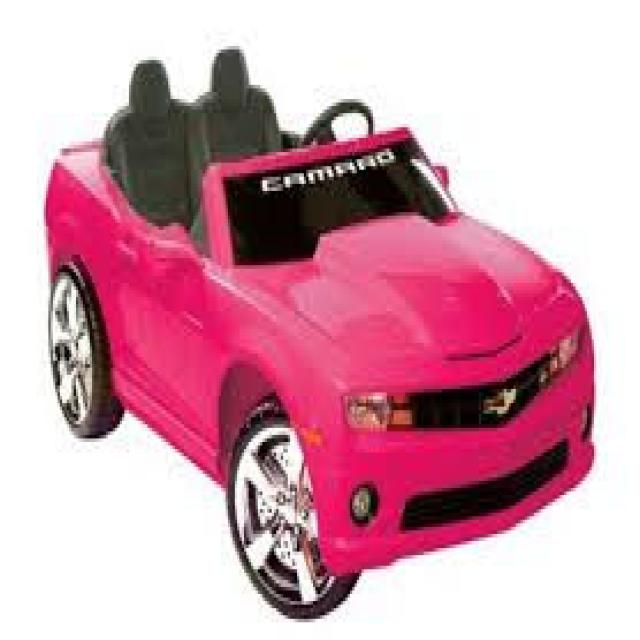Car: (41, 88, 596, 619)
